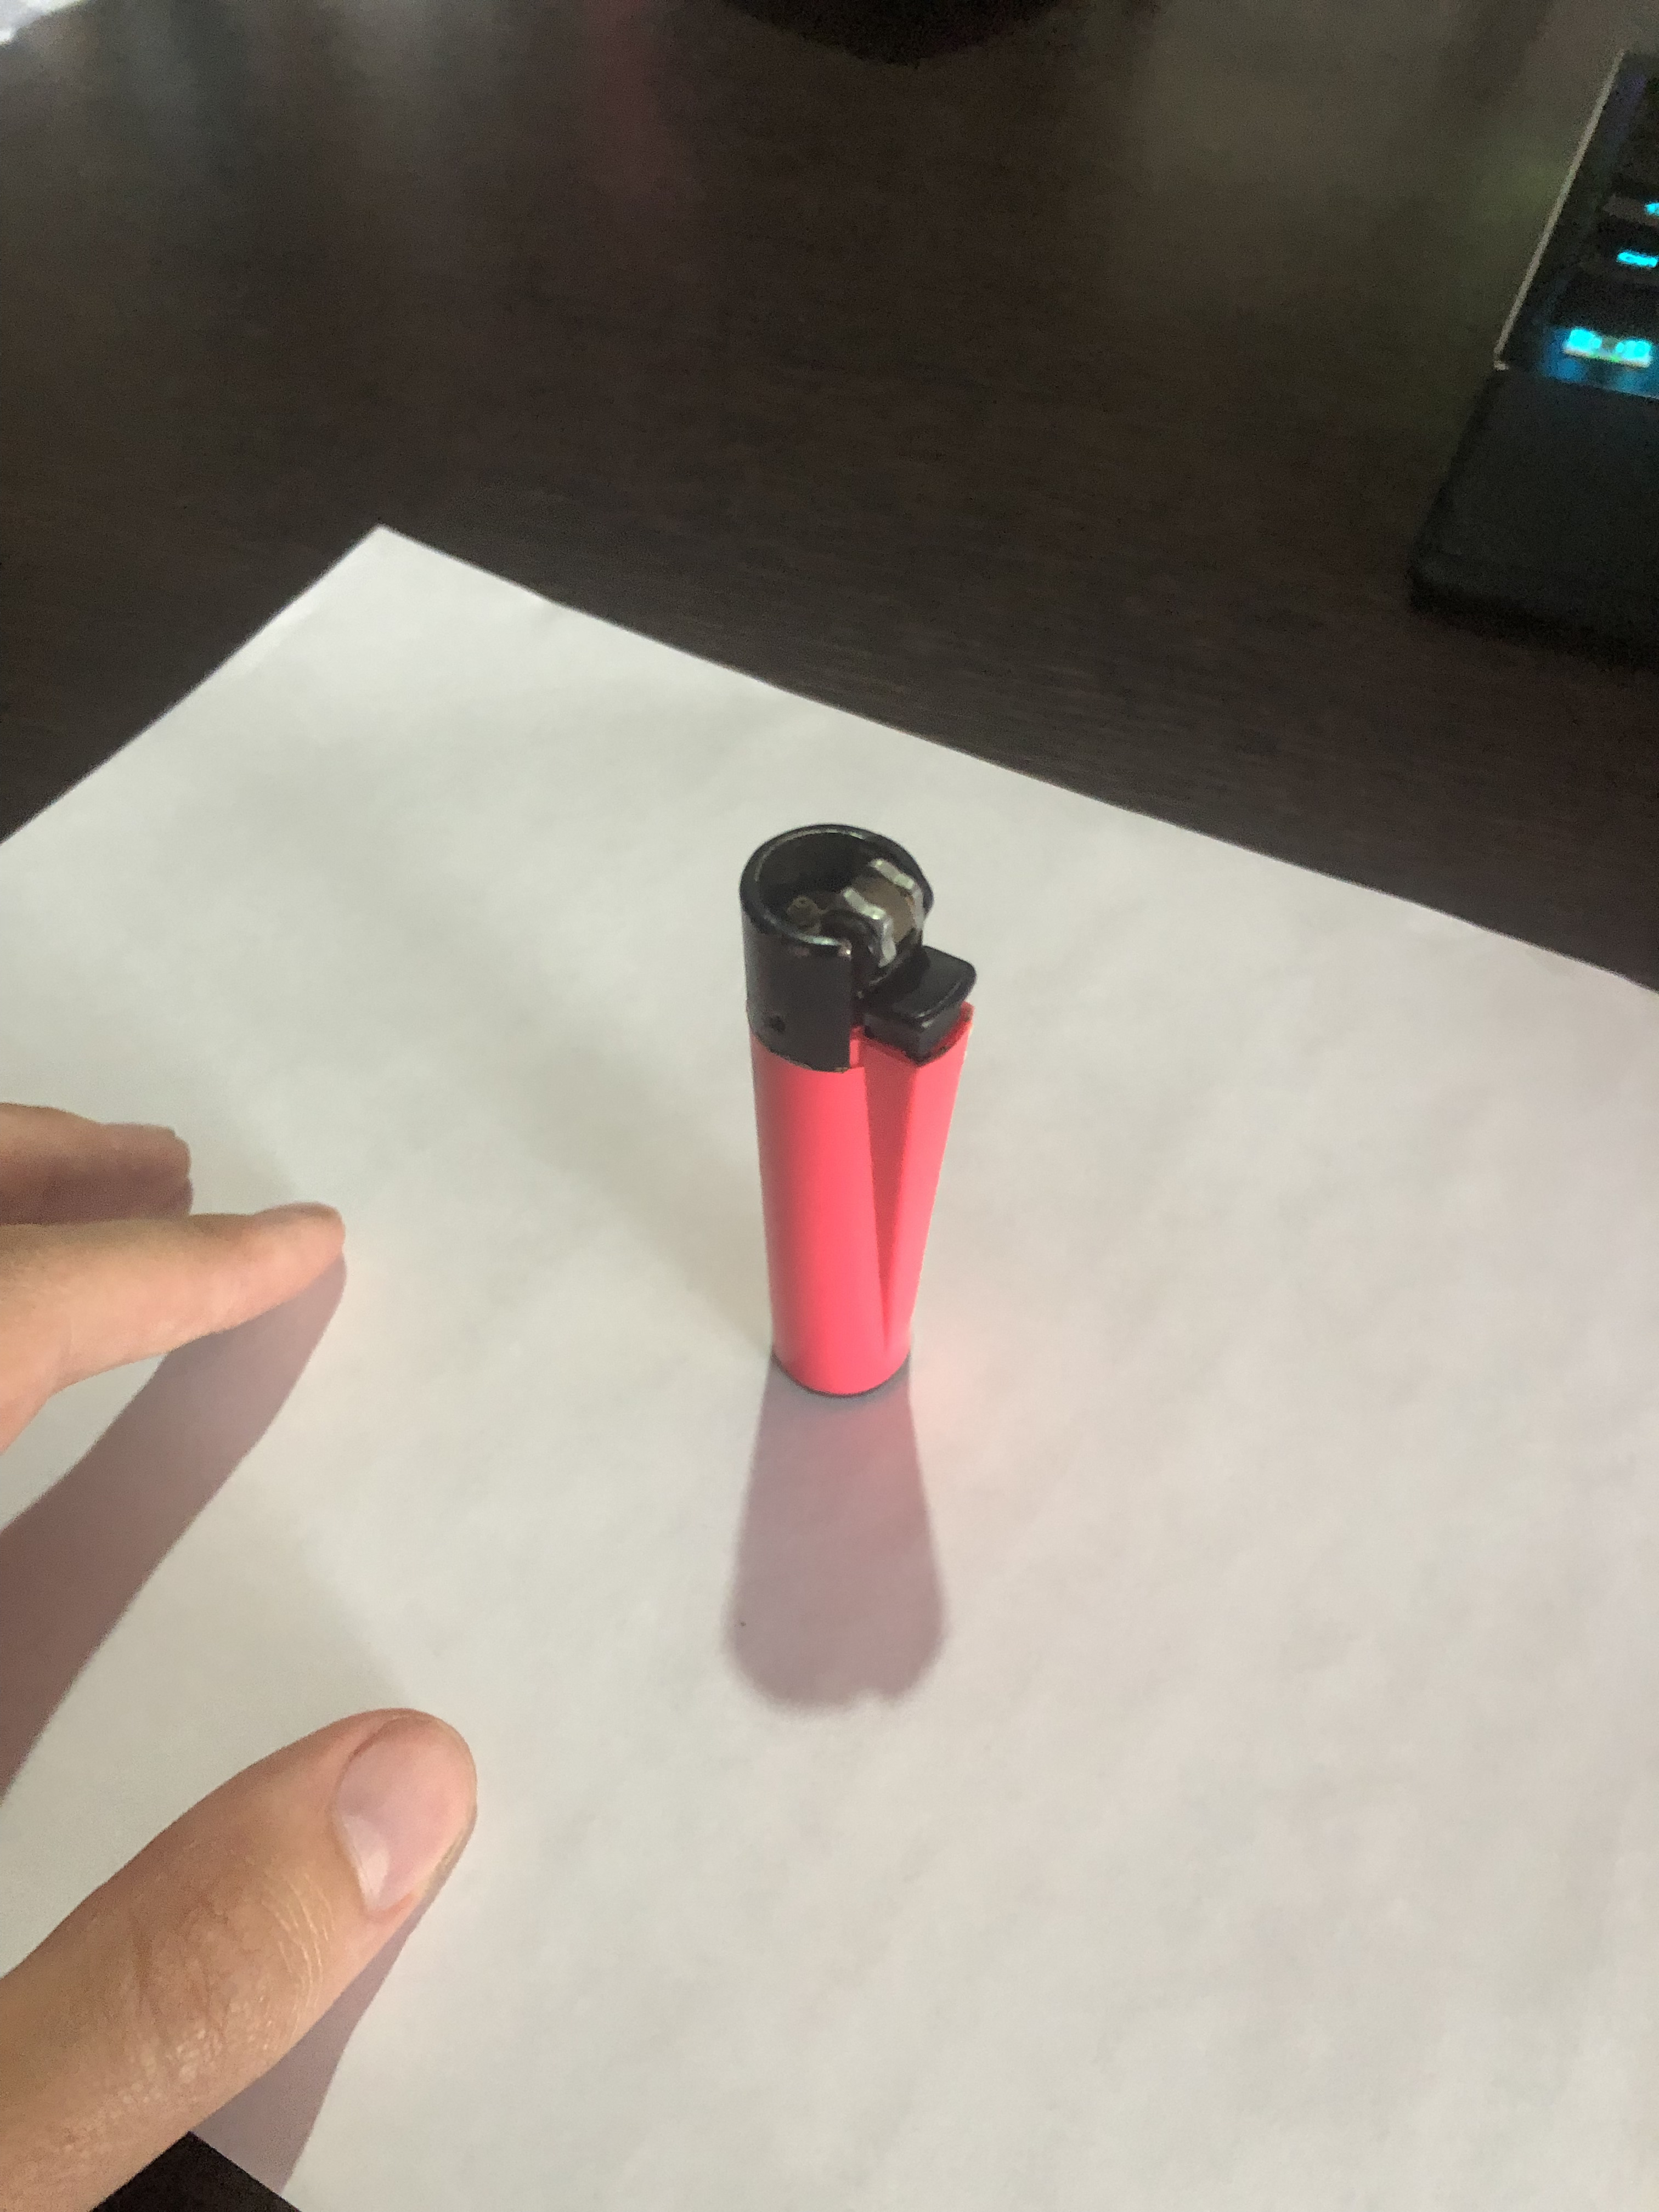Mechero: (676, 798, 1002, 1414)
